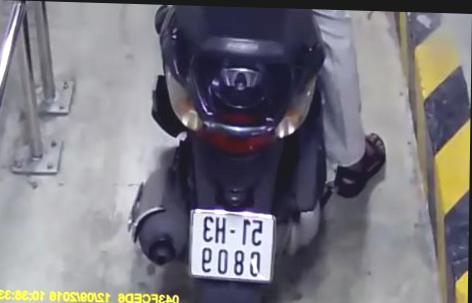License_Plate: (181, 204, 284, 284)
